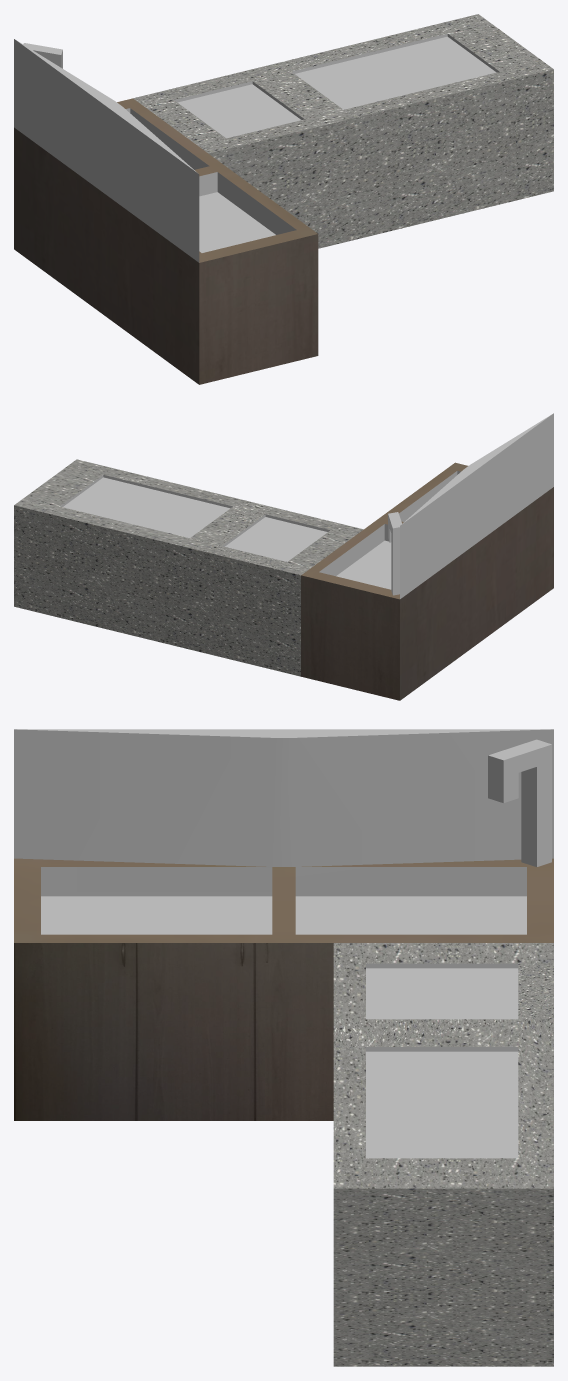
File: desk.fbx
3 renders of one model, top to bottom at view 1: azimuth 30°, elevation 25°; view 2: azimuth 150°, elevation 25°; view 3: azimuth 270°, elevation 25°, orthographic. The views are drawn at different scales.
Parts seen in each view (by area): view 1: obj2, obj1; view 2: obj1, obj2; view 3: obj2, obj1.
Part boxes in pixels (box(x1,y1,x2,y2)): obj2: box(14, 39, 318, 384); obj1: box(133, 14, 553, 248); obj1: box(14, 459, 363, 676); obj2: box(301, 413, 553, 700); obj2: box(14, 729, 553, 1120); obj1: box(333, 943, 553, 1366).
Size of the model in its own units: 319 by 138 by 221.
